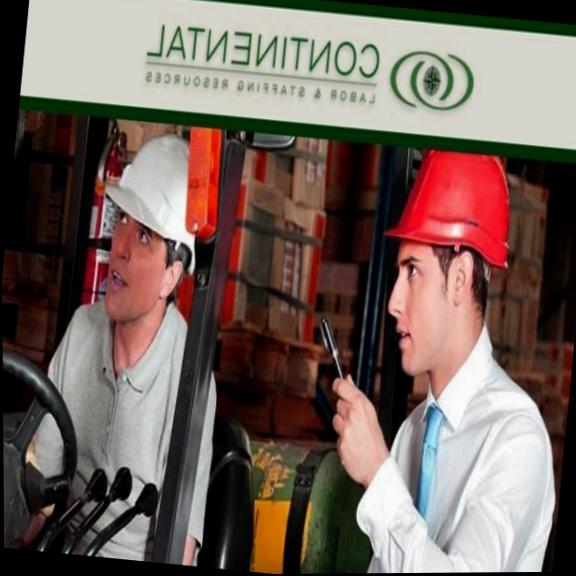no_safety_vest: (350, 374, 563, 573), (32, 313, 190, 564)
